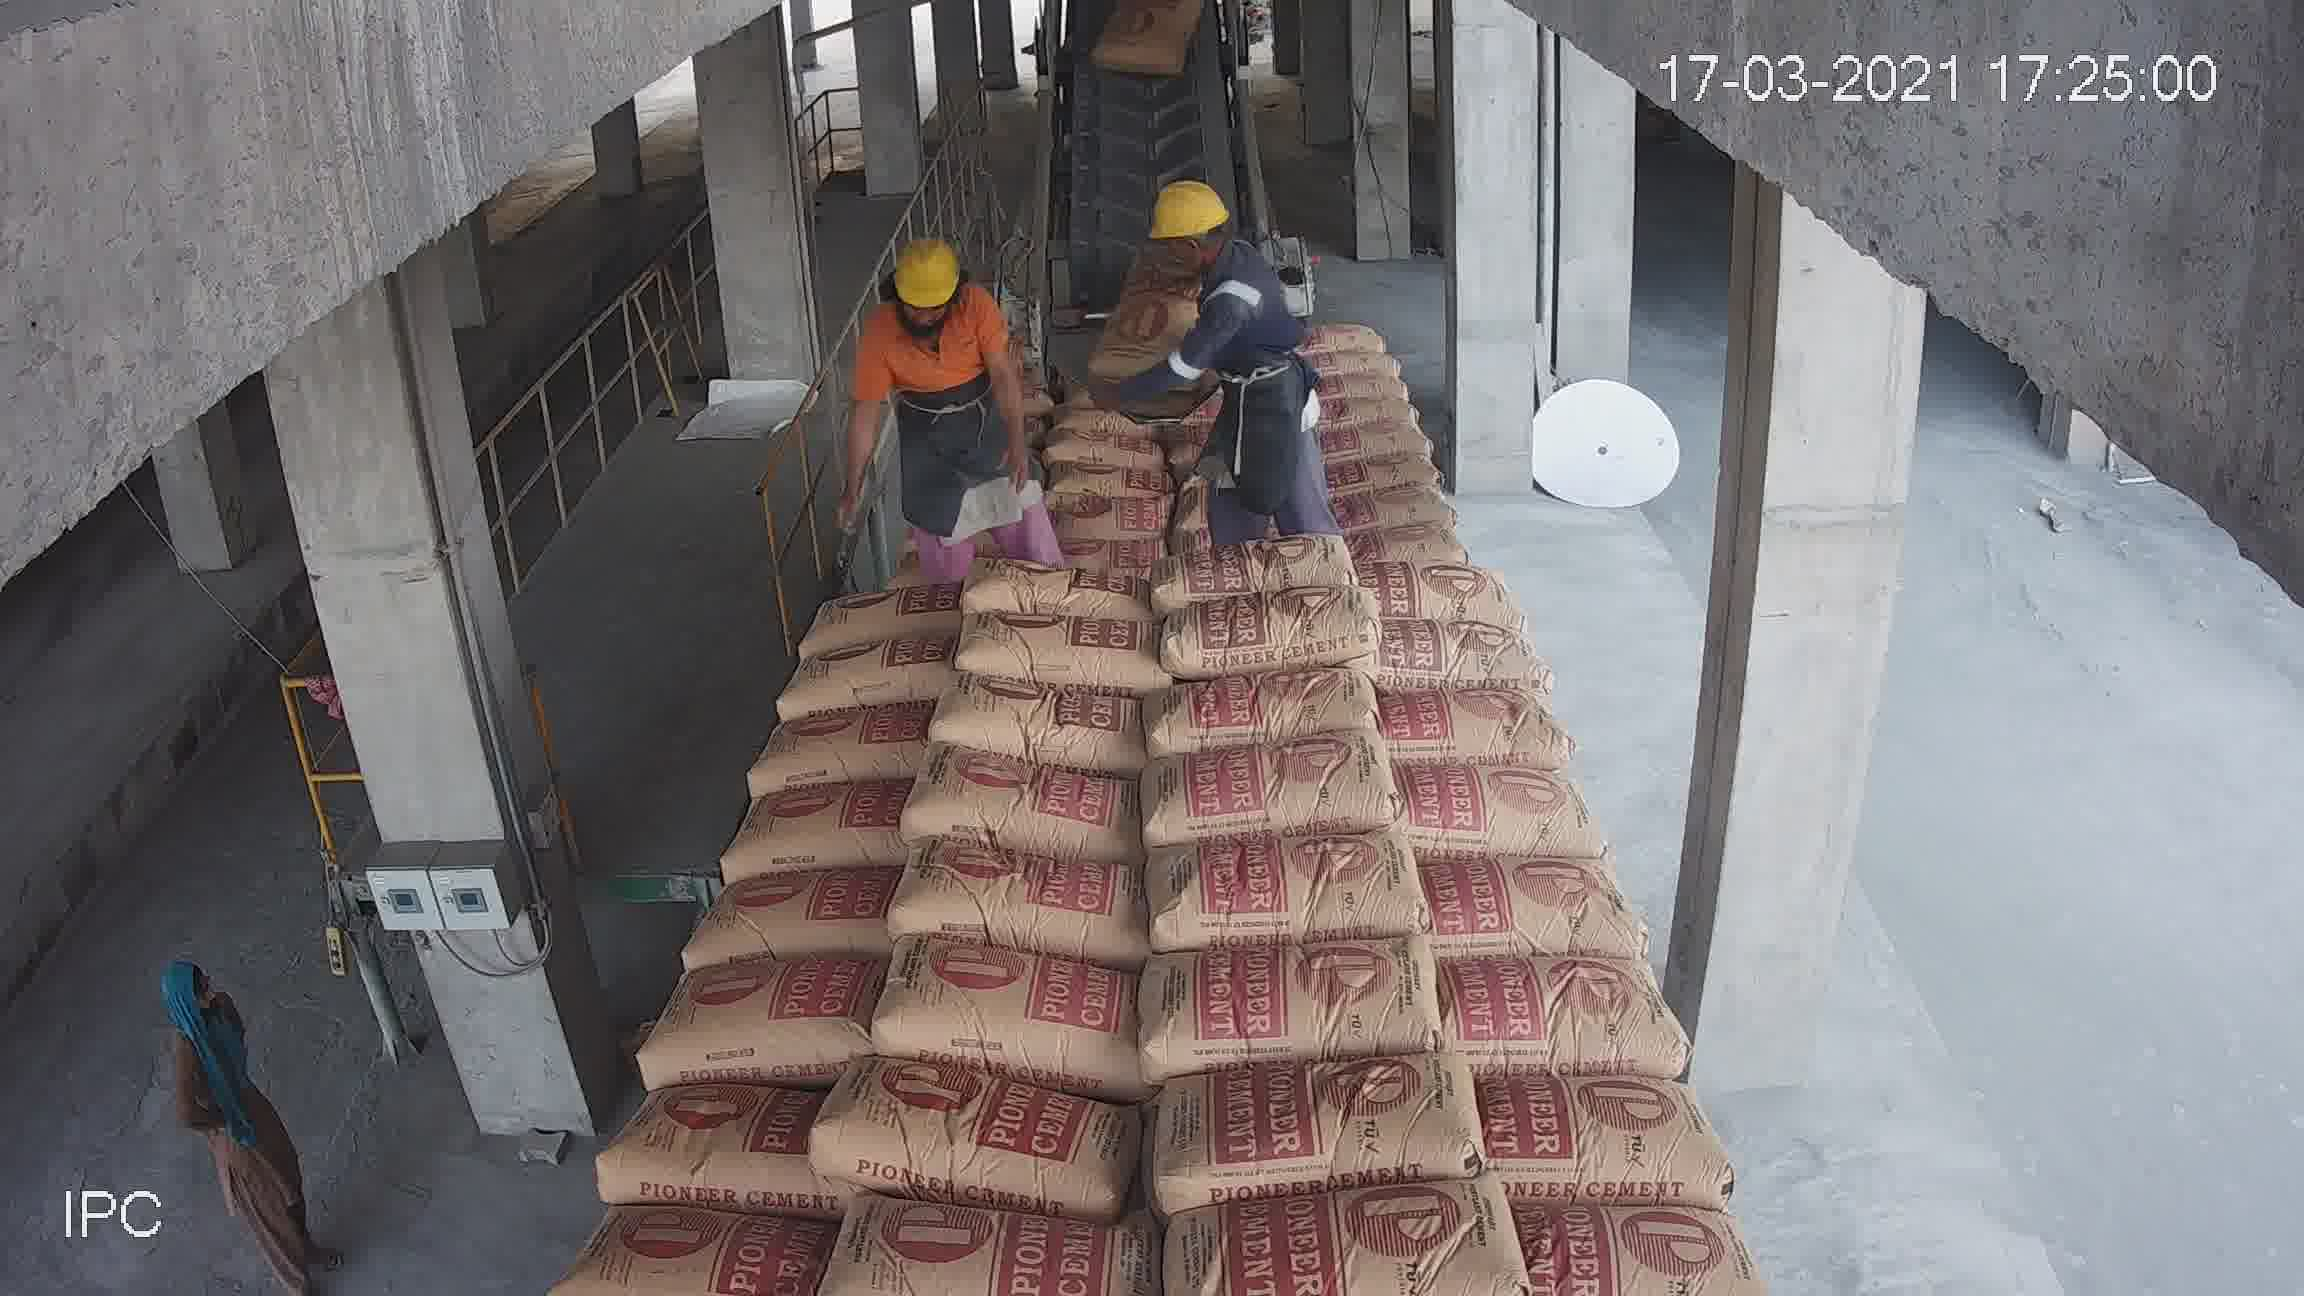bag: (1120, 233, 1214, 331), (1108, 14, 1198, 97)
bag_h: (1100, 1051, 1492, 1236), (1165, 1166, 1529, 1290), (1445, 934, 1704, 1090), (805, 1071, 1144, 1188), (1483, 1060, 1756, 1196), (1138, 938, 1442, 1051), (1147, 731, 1424, 851), (1388, 850, 1650, 976), (639, 943, 873, 1079), (1494, 1177, 1756, 1296), (888, 953, 1139, 1074), (839, 1201, 1144, 1296), (902, 831, 1138, 953), (665, 862, 900, 983), (1158, 831, 1434, 930), (1154, 589, 1389, 696), (902, 750, 1157, 845), (612, 1082, 820, 1196), (725, 777, 916, 888), (571, 1203, 826, 1283), (934, 665, 1139, 755), (1157, 661, 1385, 741), (728, 706, 934, 791), (1429, 761, 1601, 861), (949, 612, 1165, 692), (771, 639, 957, 726), (1154, 527, 1370, 601), (1383, 685, 1570, 771), (793, 571, 975, 657), (1367, 627, 1552, 711), (949, 555, 1161, 622), (1315, 470, 1495, 540), (1161, 484, 1332, 557), (820, 459, 1005, 524), (1320, 571, 1519, 631), (968, 513, 1157, 574), (807, 494, 973, 555), (972, 427, 1157, 483), (986, 460, 1149, 521), (1339, 517, 1514, 571), (820, 538, 976, 598), (1136, 446, 1320, 494), (1017, 388, 1198, 434), (1324, 435, 1483, 484), (1331, 388, 1465, 443), (1182, 410, 1332, 457), (870, 405, 994, 460), (1290, 302, 1388, 358), (1290, 328, 1412, 370), (1301, 353, 1415, 391)
belt: (1048, 2, 1264, 244)
